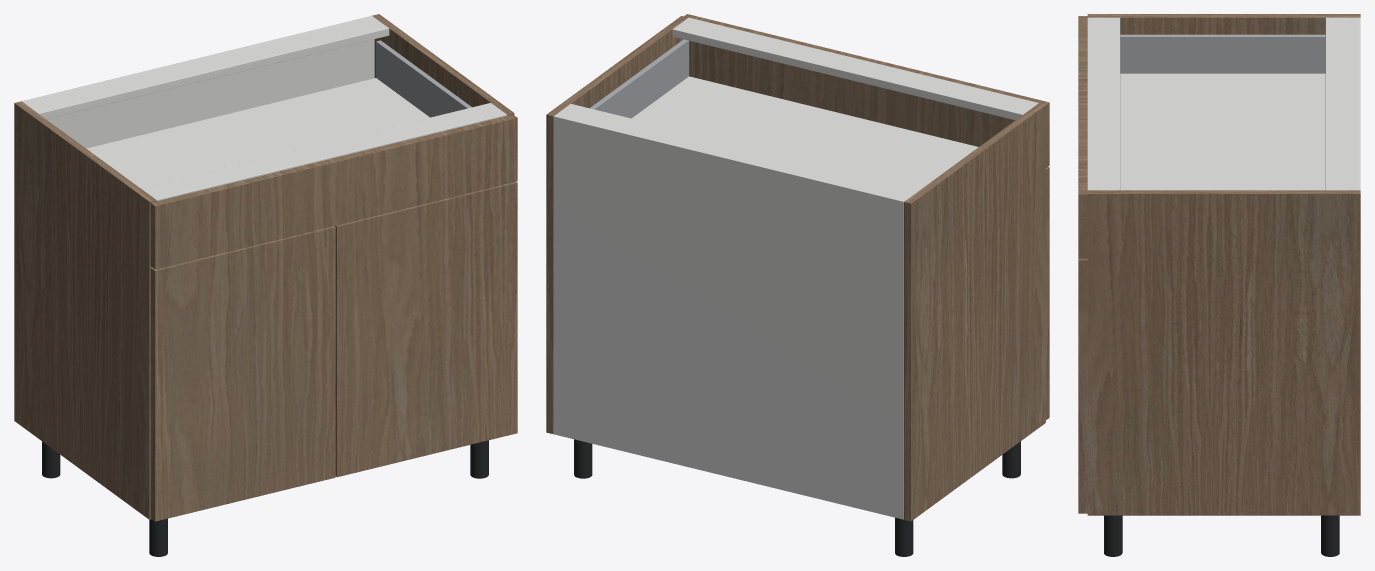
The model's file is oppein-pb-mnw-b36.glb.
3 renders of one model, left to right at view 1: azimuth 30°, elevation 25°; view 2: azimuth 150°, elevation 25°; view 3: azimuth 270°, elevation 25°, orthographic.
Visible parts, largest first — view 1: Door, Door.001, Cabinet side, Drawer front, Drawer floor, Cabinet back, Top support rail, Top support rail.001, Drawer side.001, Cabinet side.001, Adjustable foot.001, Adjustable foot.003; view 2: Cabinet back, Cabinet side, Drawer floor, Drawer front, Top support rail.001, Cabinet side.001, Top support rail, Drawer side.001, Door, Adjustable foot, Adjustable foot.002; view 3: Cabinet side.001, Drawer floor, Drawer side, Top support rail.001, Top support rail, Cabinet side, Door.001, Drawer front, Cabinet back, Adjustable foot.003, Adjustable foot.002.
Part boxes in pixels (x1=…): Door: x1=150, y1=226, x2=335, y2=521; Door.001: x1=335, y1=181, x2=517, y2=477; Cabinet side: x1=14, y1=101, x2=156, y2=519; Drawer front: x1=150, y1=114, x2=517, y2=269; Drawer floor: x1=86, y1=78, x2=429, y2=188; Cabinet back: x1=21, y1=15, x2=374, y2=148; Top support rail: x1=23, y1=17, x2=389, y2=119; Top support rail.001: x1=141, y1=103, x2=506, y2=201; Drawer side.001: x1=376, y1=40, x2=471, y2=117; Cabinet side.001: x1=372, y1=14, x2=514, y2=115; Adjustable foot.001: x1=149, y1=518, x2=167, y2=556; Adjustable foot.003: x1=470, y1=440, x2=488, y2=478; Cabinet back: x1=553, y1=114, x2=905, y2=519; Cabinet side: x1=904, y1=103, x2=1045, y2=521; Drawer floor: x1=632, y1=76, x2=978, y2=188; Drawer front: x1=684, y1=14, x2=1049, y2=167; Top support rail.001: x1=672, y1=17, x2=1038, y2=120; Cabinet side.001: x1=546, y1=16, x2=688, y2=434; Top support rail: x1=556, y1=104, x2=920, y2=199; Drawer side.001: x1=590, y1=39, x2=689, y2=118; Door: x1=1046, y1=167, x2=1049, y2=419; Adjustable foot: x1=895, y1=517, x2=913, y2=556; Adjustable foot.002: x1=574, y1=439, x2=592, y2=478; Cabinet side.001: x1=1087, y1=190, x2=1360, y2=515; Drawer floor: x1=1120, y1=73, x2=1325, y2=190; Drawer side: x1=1120, y1=34, x2=1325, y2=73; Top support rail.001: x1=1087, y1=17, x2=1120, y2=190; Top support rail: x1=1325, y1=17, x2=1357, y2=190; Cabinet side: x1=1087, y1=14, x2=1360, y2=34; Door.001: x1=1078, y1=258, x2=1087, y2=513; Drawer front: x1=1078, y1=16, x2=1087, y2=258; Cabinet back: x1=1355, y1=17, x2=1360, y2=190; Adjustable foot.003: x1=1104, y1=515, x2=1122, y2=556; Adjustable foot.002: x1=1321, y1=515, x2=1339, y2=556.
Bounding box in the file's own units: 0.9144 × 0.8763 × 0.6064.
Materials: 4 (1 with a texture image).
